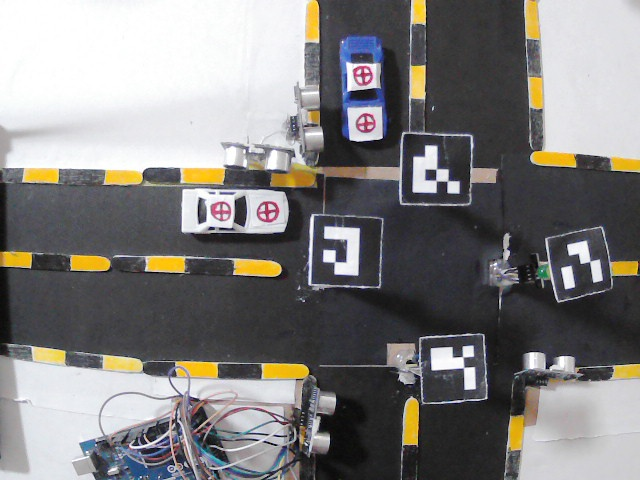aruco_marker: (541, 223, 612, 305), (398, 129, 472, 206), (307, 215, 382, 286), (417, 331, 486, 404)
emergency_vehicle: (336, 34, 392, 148), (178, 185, 293, 239)
traffic_light: (515, 251, 552, 289)
uno_breadboard: (73, 405, 241, 480), (297, 384, 338, 456), (219, 140, 296, 178), (514, 349, 583, 388), (290, 82, 325, 156)
